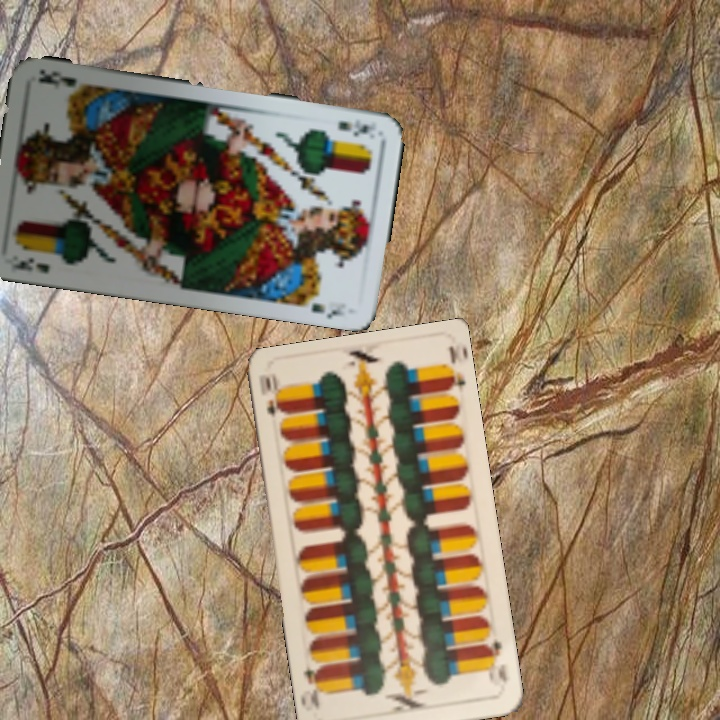E10: (480, 636, 511, 689), (261, 371, 285, 418)
EK: (7, 254, 52, 275), (334, 116, 375, 136)
